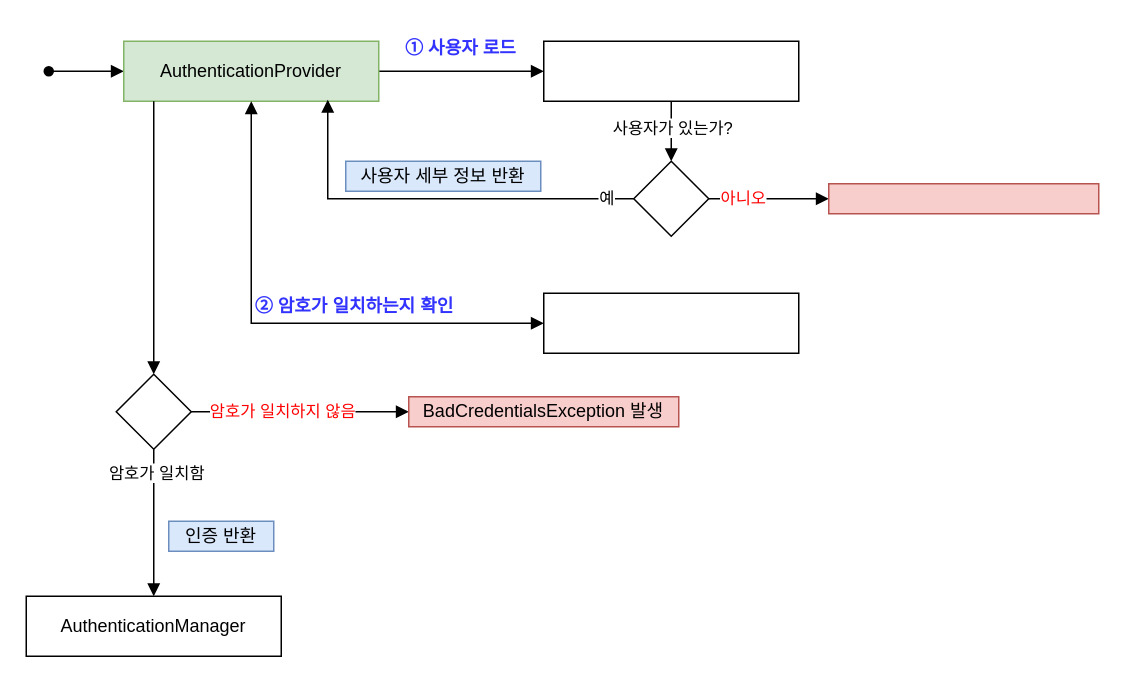
The diagram is 1125 pixels wide and 683 high, and some of its shapes have lost their labels. Each missing label, with the centre of its shape:
"AuthenticationException 발생" belongs at pixel 963 198.
"PasswordEncoder" belongs at pixel 670 322.
"UserDetailsService" belongs at pixel 670 70.
